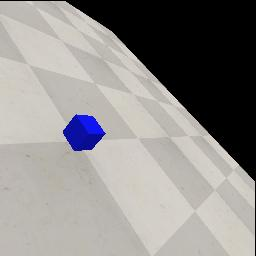box: (63, 114, 106, 151)
